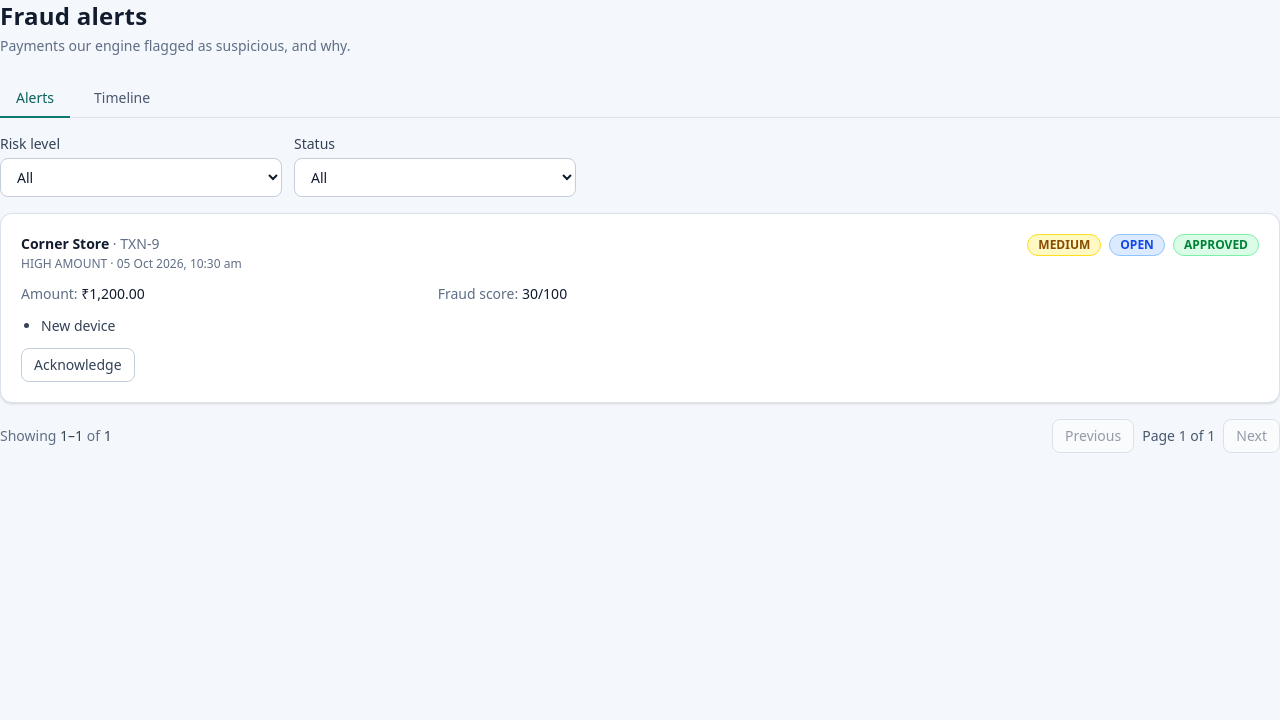
F-02 acknowledge MEDIUM alerts › a 400 keeps the dialog open with the server message; Cancel closes without a request
This screenshot has width=1280, height=720.
Click the button with aria-label "Acknowledge alert for Corner Store".
click(78, 365)  # box [21, 348, 135, 382]
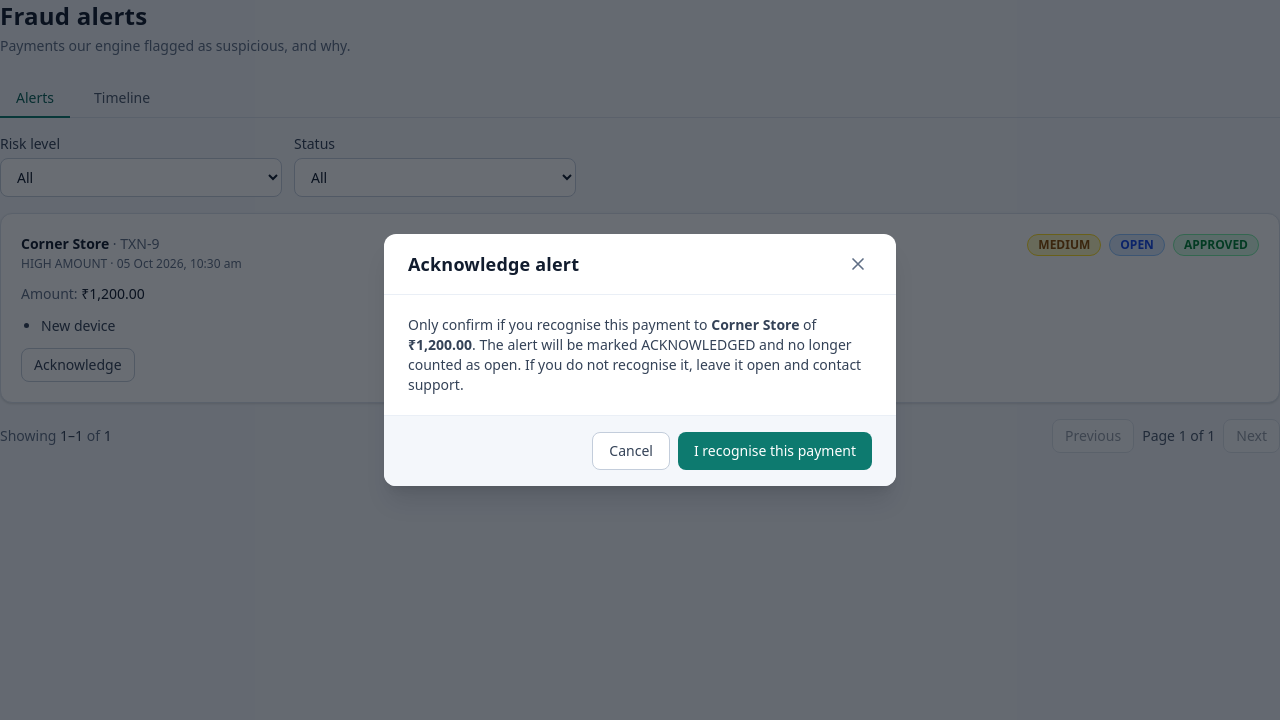
Click the button "I recognise this payment".
click(775, 451)  # box [678, 432, 872, 470]
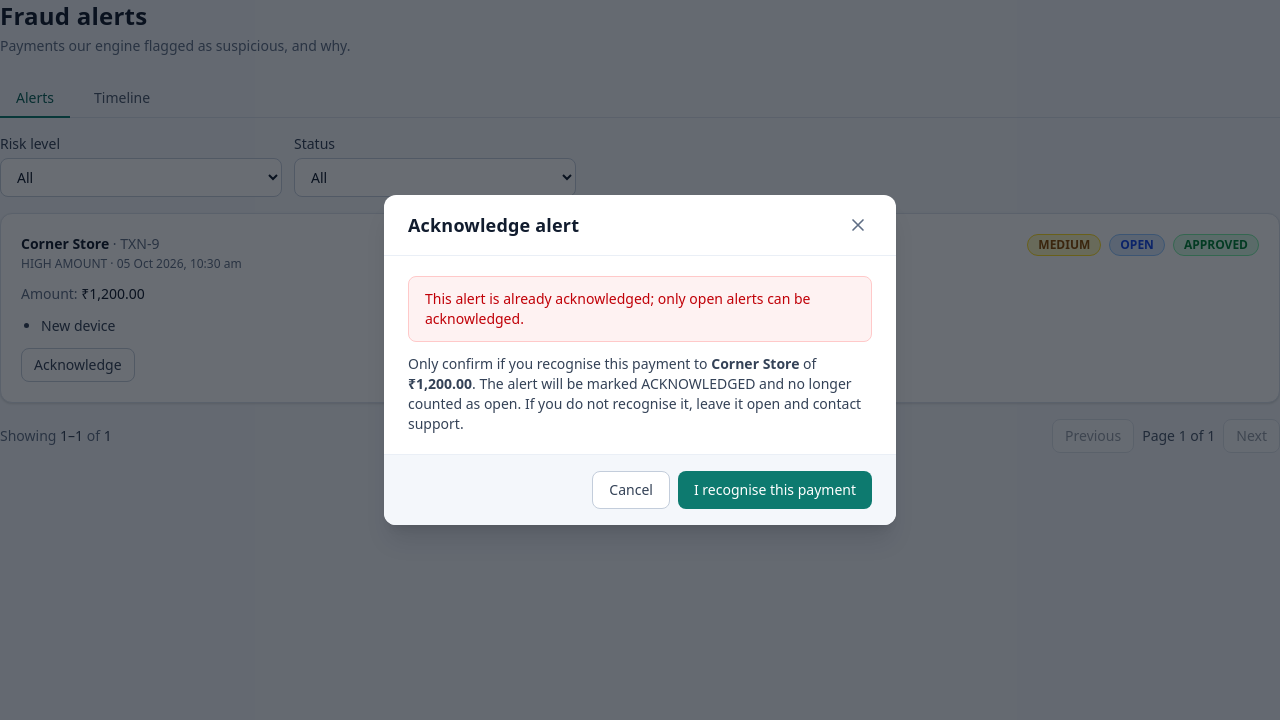
expect the message shows "already acknowledged": met, box [425, 289, 810, 328]
Click the button "Cancel".
click(631, 490)  # box [592, 471, 670, 509]
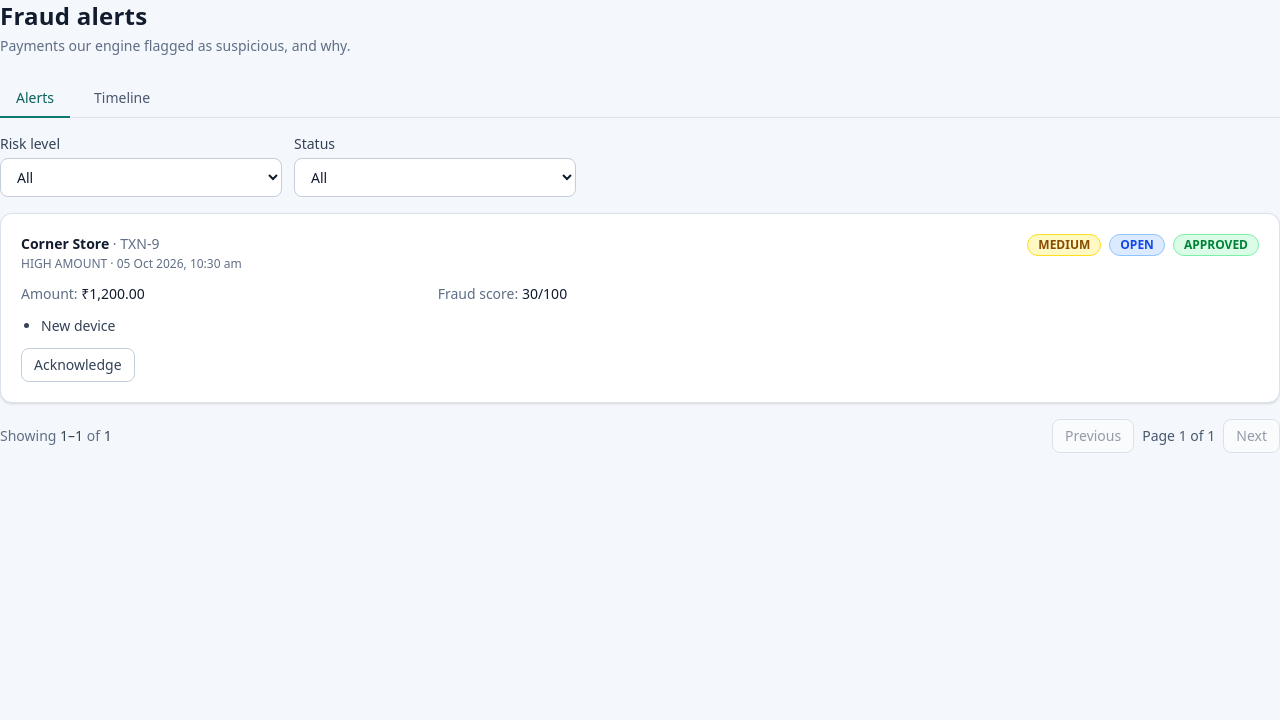
expect the dialog is gone: met
